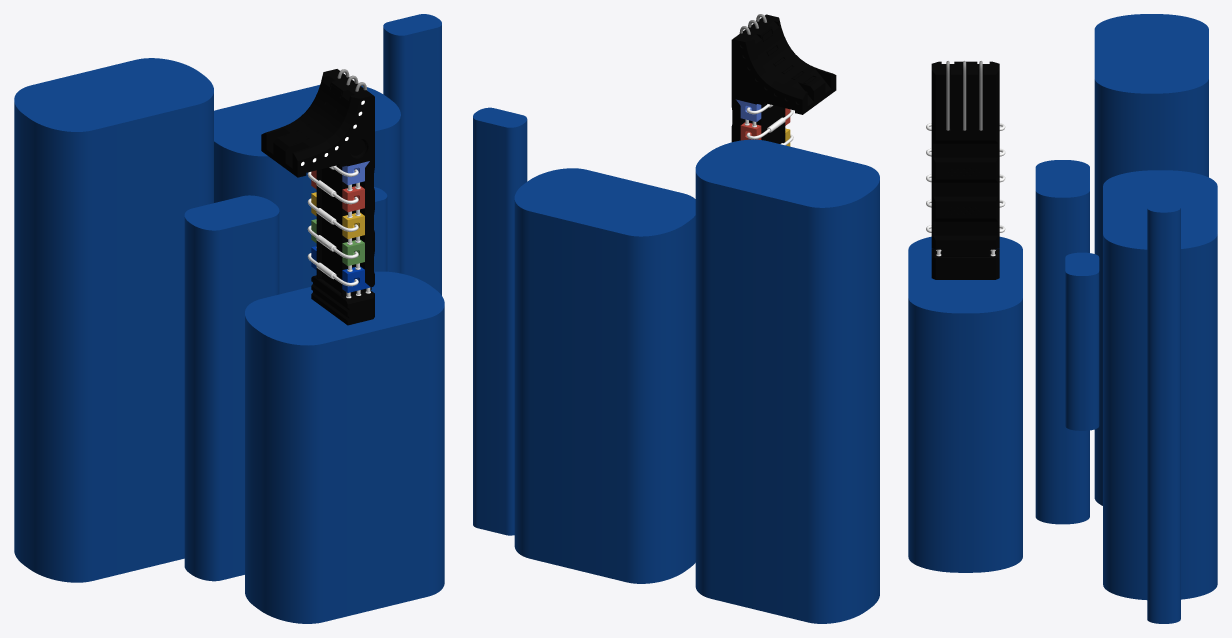
The model's file is Number1C.glb.
3 renders of one model, left to right at view 1: azimuth 30°, elevation 25°; view 2: azimuth 150°, elevation 25°; view 3: azimuth 270°, elevation 25°, orthographic. The views are drawn at different scales.
Visible parts, largest first — view 1: Cube.026, Cube.017, Cube.028, Cube.019, Cube.029, Curve.013, Curve.012, Curve.011, Curve.010, Curve.014, Curve.009, Cube.027; view 2: Cube.026, Cube.019, Cube.029, Curve.012, Curve.013, Curve.010, Curve.011; view 3: Cube.019, Cube.017, Cube.026, Cube.028, Cube.029, Curve.009, Cube.027, Curve.013, Curve.014, Curve.012, Curve.010.
Part boxes in pixels (box(x1,y1,x2,y2)): Cube.026: box(14, 58, 213, 582); Cube.017: box(245, 271, 444, 623); Cube.028: box(184, 195, 279, 581); Cube.019: box(214, 85, 400, 294); Cube.029: box(383, 14, 441, 295); Curve.013: box(266, 73, 371, 296); Curve.012: box(261, 69, 374, 177); Curve.011: box(311, 161, 373, 292); Curve.010: box(273, 77, 360, 168); Curve.014: box(311, 275, 374, 325); Curve.009: box(360, 157, 374, 287); Cube.027: box(374, 187, 387, 271); Cube.026: box(695, 139, 879, 623); Cube.019: box(514, 168, 695, 583); Cube.029: box(473, 107, 527, 535); Curve.012: box(731, 14, 836, 114); Curve.013: box(738, 18, 831, 143); Curve.010: box(744, 23, 825, 106); Curve.011: box(736, 99, 790, 146); Cube.019: box(1103, 170, 1217, 599); Cube.017: box(908, 236, 1022, 572); Cube.026: box(1094, 14, 1208, 505); Cube.028: box(1035, 160, 1089, 524); Cube.029: box(1147, 189, 1180, 623); Curve.009: box(931, 128, 999, 249); Cube.027: box(1065, 252, 1099, 430); Curve.013: box(941, 64, 989, 256); Curve.014: box(931, 248, 999, 279); Curve.012: box(931, 61, 999, 130); Curve.010: box(954, 61, 977, 130).
Bounding box in the file's own units: 1.1 × 1.28 × 0.7538.
